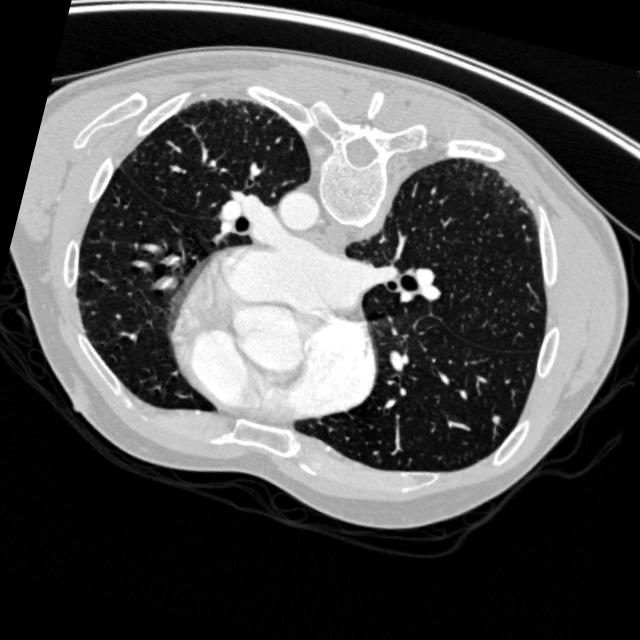nodule: (484, 408, 508, 432)
